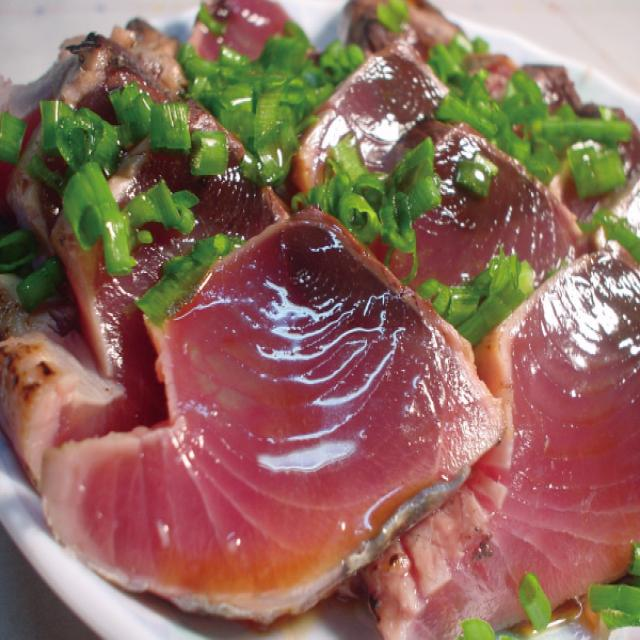熟制海鲜: (0, 0, 638, 640)
